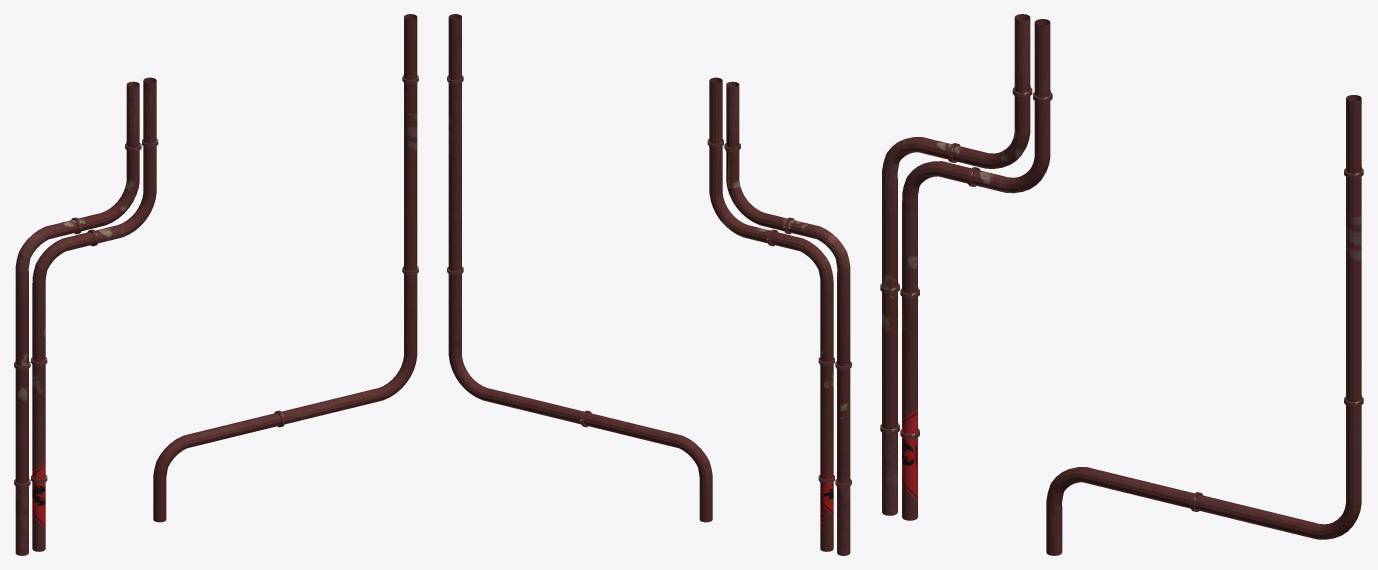
The model's file is CS_pipe_02.FBX.
The picture shows the model from 3 angles, left to right: view 1: azimuth 30°, elevation 25°; view 2: azimuth 150°, elevation 25°; view 3: azimuth 330°, elevation 25°; orthographic projection. The views are drawn at different scales.
Visible parts, largest first — view 1: SM_pipe_02; view 2: SM_pipe_02; view 3: SM_pipe_02.
Part boxes in pixels (x1=…): SM_pipe_02: x1=14, y1=14, x2=418, y2=555; SM_pipe_02: x1=447, y1=14, x2=851, y2=555; SM_pipe_02: x1=880, y1=14, x2=1363, y2=555.
Bounding box in the file's own units: 281 × 11.06 × 295.
